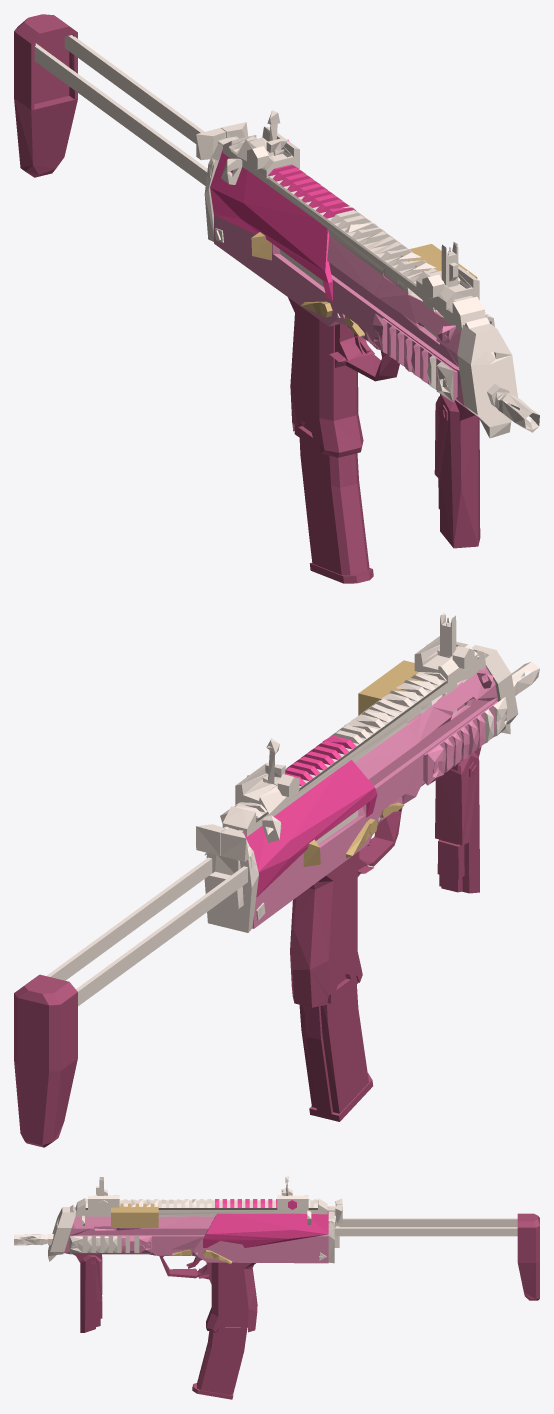
Rendered from SMG_MP7.obj.
The picture shows the model from 3 angles, top to bottom: view 1: azimuth 30°, elevation 25°; view 2: azimuth 150°, elevation 25°; view 3: azimuth 270°, elevation 25°; orthographic projection. The views are drawn at different scales.
Visible parts, largest first — view 1: Panel, Mag, Body, Accent, Grip, Hardware; view 2: Mag, Panel, Body, Accent, Grip, Bolt, Hardware; view 3: Panel, Mag, Body, Accent, Grip, Bolt.
Boxes of the visible parts, bbox=[...] form: Panel: bbox=[34, 35, 539, 438]; Mag: bbox=[14, 14, 399, 583]; Body: bbox=[214, 215, 469, 410]; Accent: bbox=[210, 139, 356, 301]; Grip: bbox=[434, 394, 480, 548]; Hardware: bbox=[251, 232, 364, 336]; Mag: bbox=[14, 807, 402, 1147]; Panel: bbox=[46, 612, 539, 1006]; Body: bbox=[252, 667, 497, 928]; Accent: bbox=[223, 735, 377, 897]; Grip: bbox=[435, 746, 481, 893]; Bolt: bbox=[358, 660, 421, 715]; Hardware: bbox=[303, 802, 404, 866]; Panel: bbox=[14, 1176, 517, 1263]; Mag: bbox=[159, 1213, 539, 1399]; Body: bbox=[64, 1207, 328, 1263]; Accent: bbox=[203, 1199, 328, 1247]; Grip: bbox=[73, 1254, 102, 1332]; Bolt: bbox=[111, 1203, 158, 1227].
Size of the model in its own units: 0.1807 by 1.01 by 2.2.
